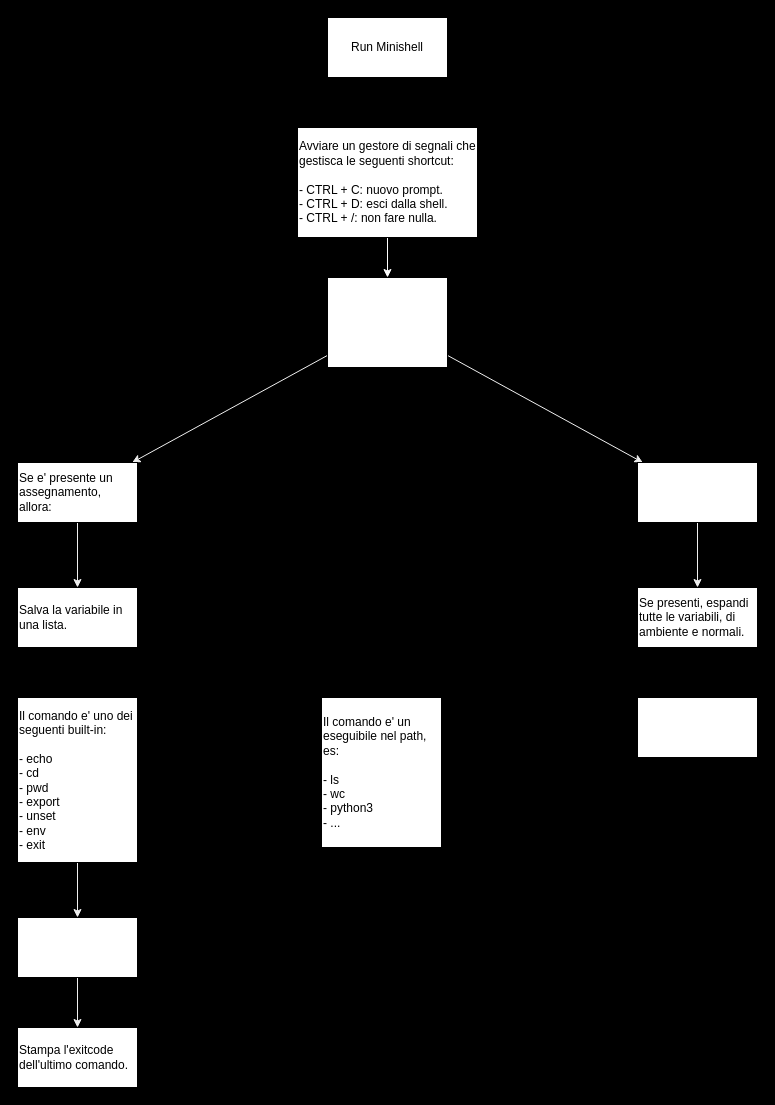
Some shapes in this 775 by 1105 pixel diagram are drawn without their labels. The shapes that lost their labels are listed below. From the top down, each one's centre as x and y in pixels, then its label:
At point (387, 322): "Compare il prompt in attesa di comandi. Una volta inserito il comando verifica:".
At point (697, 492): "Se non e' un assegnamento, allora:".
At point (697, 727): "Non e' un comando valido.".
At point (77, 947): "Se il comando e' uguale a 'echo $?'".
